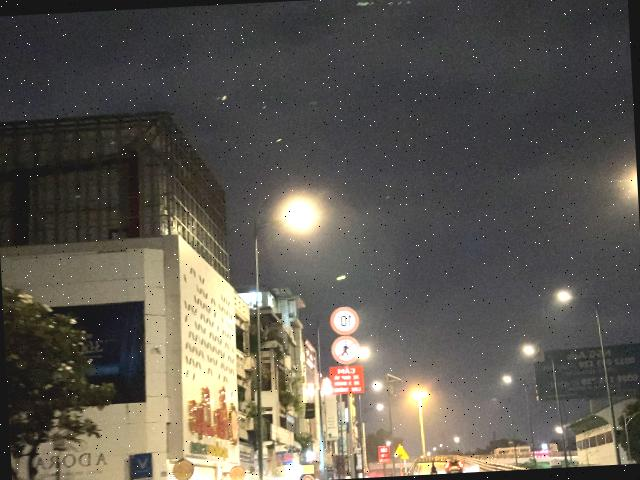cam-nguoi-di-bo: (332, 335, 362, 365)
han-che-trong-luong-xe: (328, 305, 359, 336)
